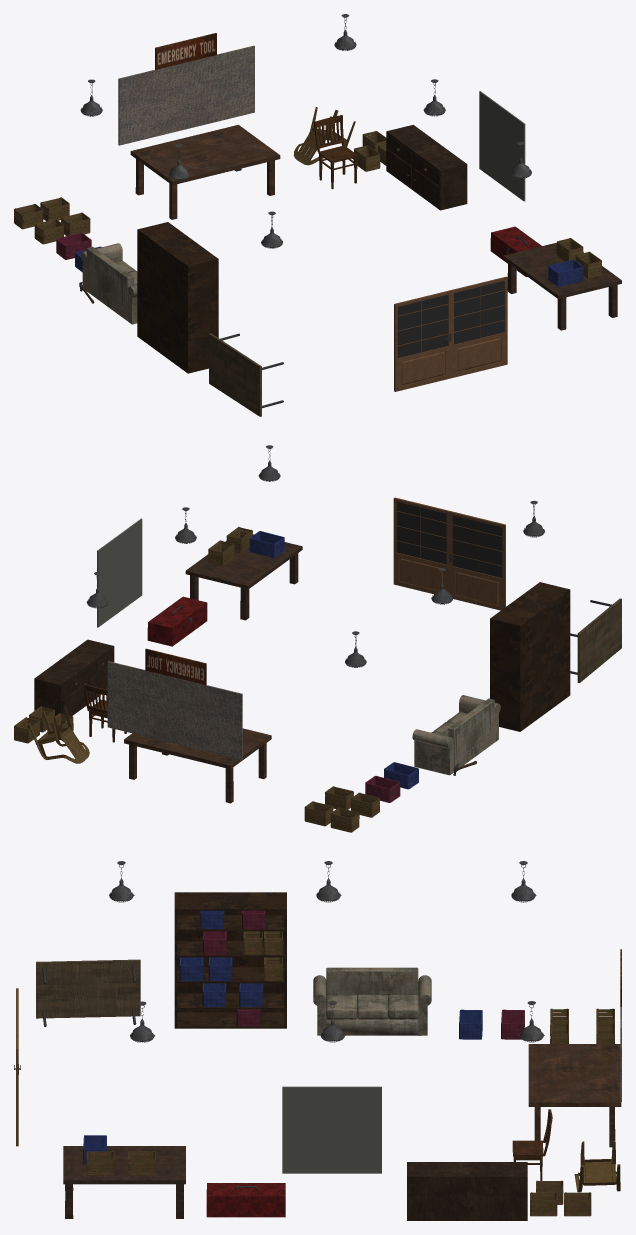
Rendered from Room 2 props.fbx.
The picture shows the model from 3 angles, top to bottom: view 1: azimuth 30°, elevation 25°; view 2: azimuth 150°, elevation 25°; view 3: azimuth 270°, elevation 25°; orthographic projection. The views are drawn at different scales.
Parts seen in each view (by area): view 1: Tool rack, Cabins 2, Table 2 r 2, door 1 R 2, Door 2 R 2, Tabel 1 r 2, Cabinet key 2, Walls.003, Left Leg.002, Circle.054, Lights 2, chair 2 (+8 smaller); view 2: Tool rack, Cabins 2, door 1 R 2, Tabel 1 r 2, Door 2 R 2, Left Leg.002, Walls.003, Cabinet key 2, Table 2 r 2, Circle.054, tool Box, Lights 2 (+9 smaller); view 3: Cabins 2, Walls.003, Left Leg.002, Cabinet key 2, Table 2 r 2, Circle.054, Tabel 1 r 2, tool Box, Lights 2, crate_2.009, NurbsPath.001, chair 2 (+2 smaller).
Boxes of the visible parts, x1=… form: Tool rack: x1=118, y1=33, x2=254, y2=145; Cabins 2: x1=137, y1=222, x2=218, y2=373; Table 2 r 2: x1=130, y1=125, x2=280, y2=219; door 1 R 2: x1=394, y1=290, x2=451, y2=391; Door 2 R 2: x1=450, y1=276, x2=507, y2=378; Tabel 1 r 2: x1=503, y1=238, x2=621, y2=330; Cabinet key 2: x1=386, y1=124, x2=467, y2=210; Walls.003: x1=479, y1=91, x2=525, y2=201; Left Leg.002: x1=80, y1=243, x2=137, y2=324; Circle.054: x1=209, y1=333, x2=283, y2=416; Lights 2: x1=80, y1=14, x2=531, y2=248; chair 2: x1=313, y1=115, x2=357, y2=189; Tool rack: x1=107, y1=648, x2=242, y2=759; Cabins 2: x1=490, y1=582, x2=570, y2=731; door 1 R 2: x1=449, y1=511, x2=505, y2=610; Tabel 1 r 2: x1=185, y1=527, x2=302, y2=620; Door 2 R 2: x1=393, y1=497, x2=449, y2=594; Left Leg.002: x1=412, y1=695, x2=500, y2=775; Walls.003: x1=97, y1=518, x2=142, y2=627; Cabinet key 2: x1=34, y1=639, x2=114, y2=720; Table 2 r 2: x1=124, y1=728, x2=271, y2=803; Circle.054: x1=570, y1=598, x2=621, y2=682; tool Box: x1=147, y1=596, x2=207, y2=646; Lights 2: x1=86, y1=445, x2=544, y2=667; Cabins 2: x1=174, y1=892, x2=286, y2=1028; Walls.003: x1=282, y1=1086, x2=381, y2=1173; Left Leg.002: x1=313, y1=967, x2=431, y2=1035; Cabinet key 2: x1=407, y1=1162, x2=527, y2=1220; Table 2 r 2: x1=528, y1=1044, x2=621, y2=1147; Circle.054: x1=36, y1=959, x2=140, y2=1026; Tabel 1 r 2: x1=63, y1=1135, x2=185, y2=1218; tool Box: x1=206, y1=1183, x2=285, y2=1217; Lights 2: x1=109, y1=861, x2=544, y2=1042; crate_2.009: x1=530, y1=1180, x2=591, y2=1216; NurbsPath.001: x1=574, y1=1140, x2=620, y2=1192; chair 2: x1=512, y1=1109, x2=552, y2=1180.
Bounding box in the file's own units: 9.7 × 3.93 × 11.87.
22 materials, 20 textured.
